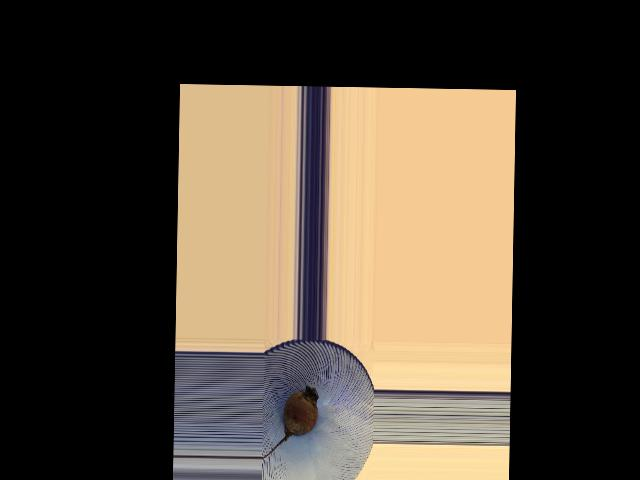beet: (261, 384, 318, 459)
